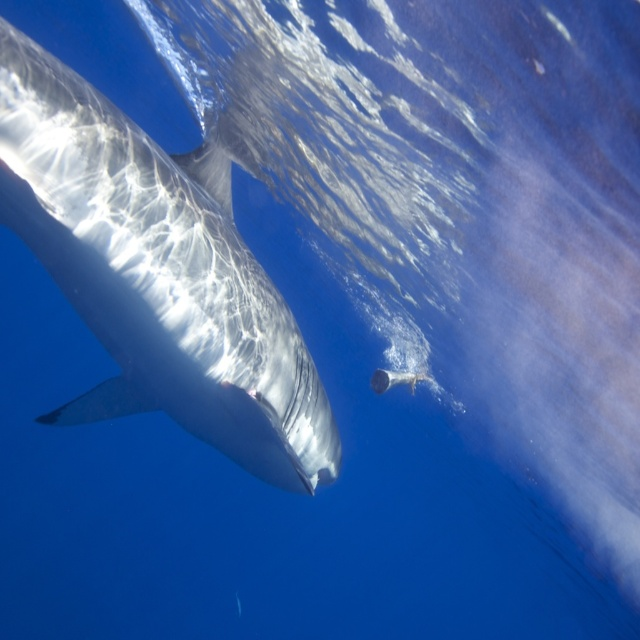Shark: (0, 14, 344, 495)
